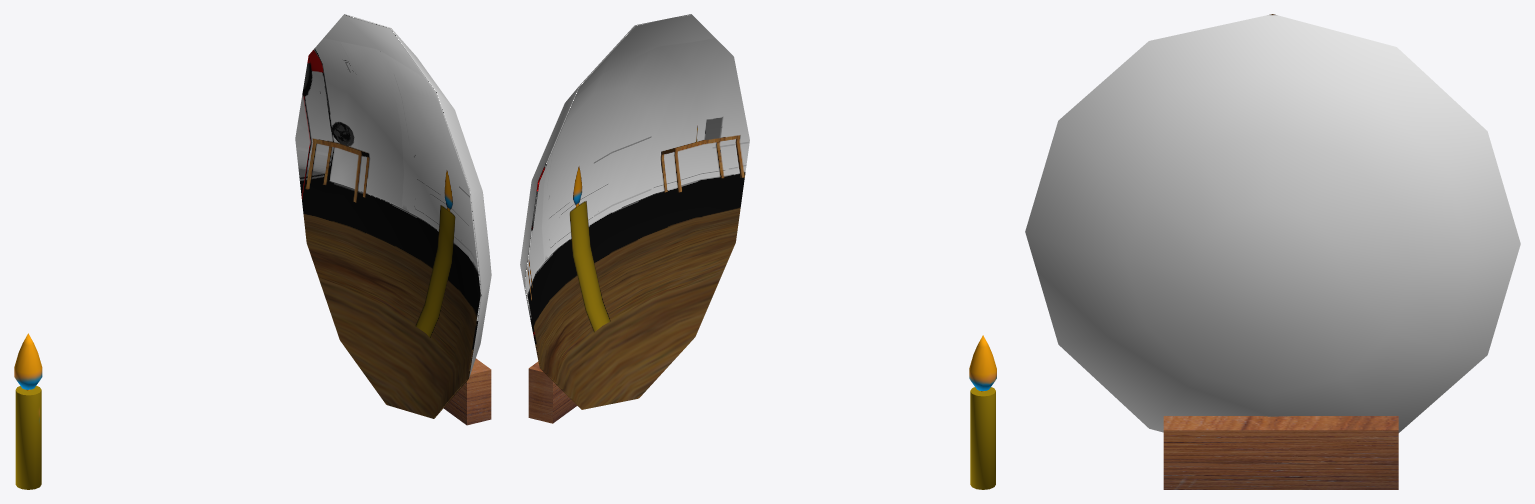
Rendered from third.fbx.
3 views of the same model, side by side, from view 1: azimuth 30°, elevation 25°; view 2: azimuth 150°, elevation 25°; view 3: azimuth 270°, elevation 25° (orthographic). The views are drawn at different scales.
Visible parts, largest first — view 1: concave2, pCylinder37, pCube9; view 2: concave2, pCylinder37, pCube9; view 3: concave2, pCube9.
Part boxes in pixels (left/top/right/bottom): concave2: left=295, top=14, right=491, bottom=418; pCylinder37: left=14, top=333, right=42, bottom=489; pCube9: left=443, top=358, right=491, bottom=425; concave2: left=520, top=14, right=749, bottom=409; pCylinder37: left=969, top=335, right=996, bottom=489; pCube9: left=528, top=361, right=576, bottom=423; concave2: left=1025, top=14, right=1520, bottom=432; pCube9: left=1163, top=416, right=1398, bottom=489.
Bounding box in the file's own units: 49.93 × 41.85 × 41.78.
3 materials, 3 textured.
